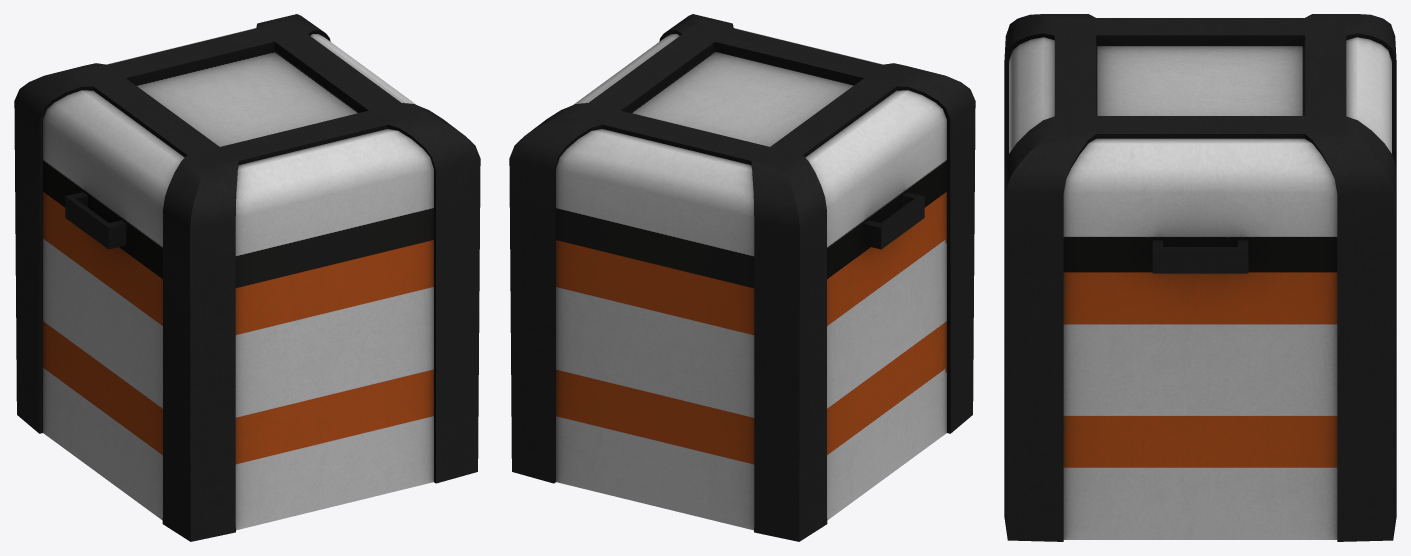
Rendered from Crate.fbx.
The picture shows the model from 3 angles, left to right: view 1: azimuth 30°, elevation 25°; view 2: azimuth 150°, elevation 25°; view 3: azimuth 270°, elevation 25°; orthographic projection. The views are drawn at different scales.
Visible parts, largest first — view 1: Crate; view 2: Crate; view 3: Crate.
Part boxes in pixels (bbox=[...]): Crate: bbox=[14, 14, 480, 541]; Crate: bbox=[509, 14, 975, 541]; Crate: bbox=[1004, 14, 1396, 541].
Bounding box in the file's own units: 1.45 × 1.51 × 1.38.
